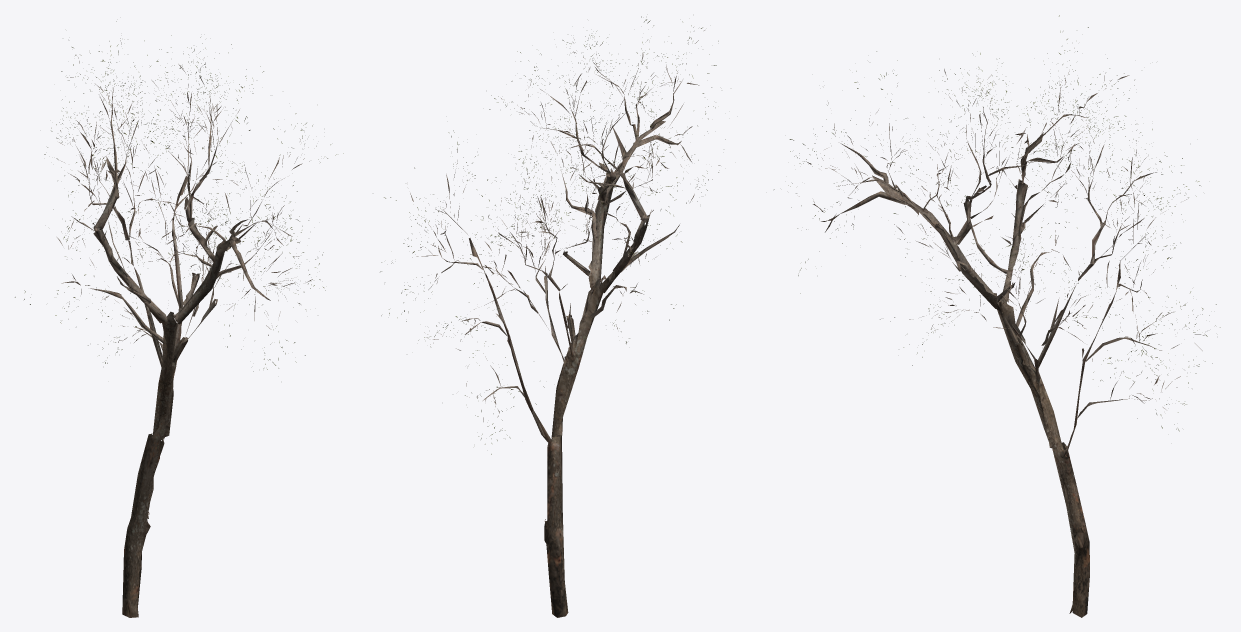
Rendered from tree_tree_small_02_young.glb.
3 views of the same model, side by side, from view 1: azimuth 30°, elevation 25°; view 2: azimuth 150°, elevation 25°; view 3: azimuth 270°, elevation 25° (orthographic). The views are drawn at different scales.
Parts seen in each view (by area): view 1: tree_tree_small_02_young; view 2: tree_tree_small_02_young; view 3: tree_tree_small_02_young.
Part boxes in pixels (x1,y1,x2,y2): tree_tree_small_02_young: [15, 21, 343, 617]; tree_tree_small_02_young: [380, 16, 725, 617]; tree_tree_small_02_young: [774, 15, 1220, 617].
Size of what is drawn, in the model's own units: 3.34 by 7 by 5.15.
Materials: 3 (3 with a texture image).
